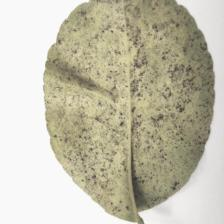canker: (64, 26, 199, 152)
